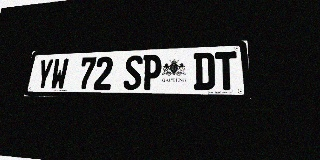2: (93, 56, 113, 90)
7: (77, 57, 97, 90)
D: (193, 52, 215, 90)
P: (142, 54, 162, 90)
S: (123, 55, 143, 90)
T: (215, 51, 238, 90)
W: (50, 58, 69, 90)
Y: (35, 59, 54, 90)
